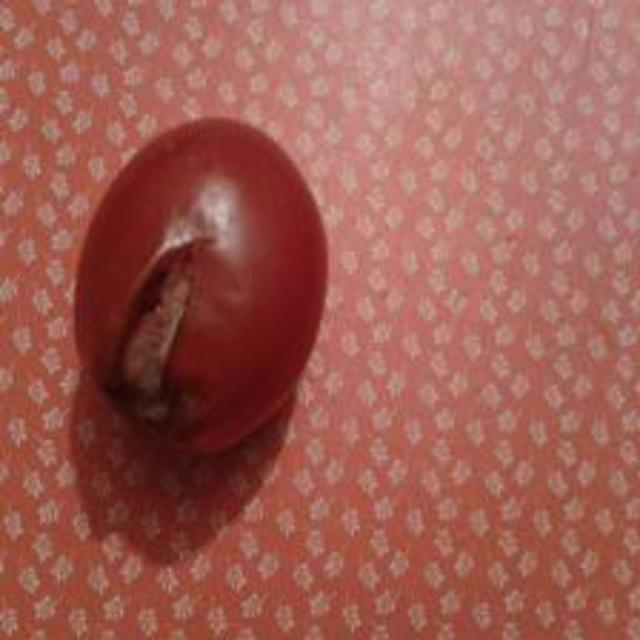defect: (71, 112, 335, 457)
